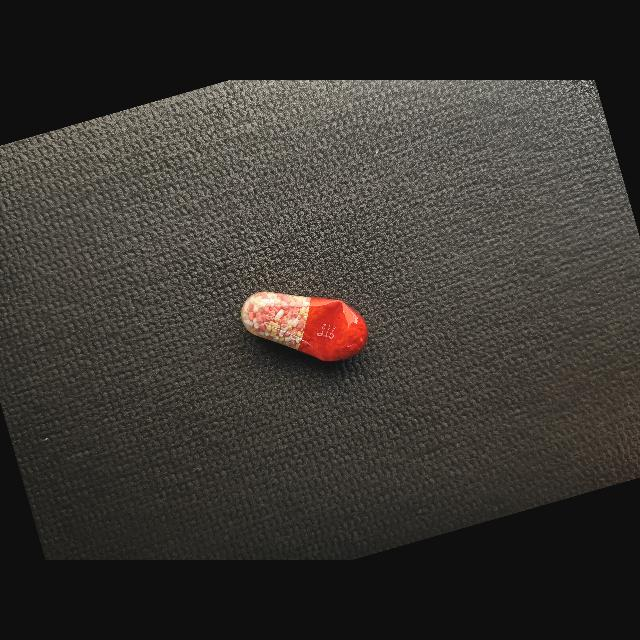Defective Capsule: (241, 292, 368, 361)
